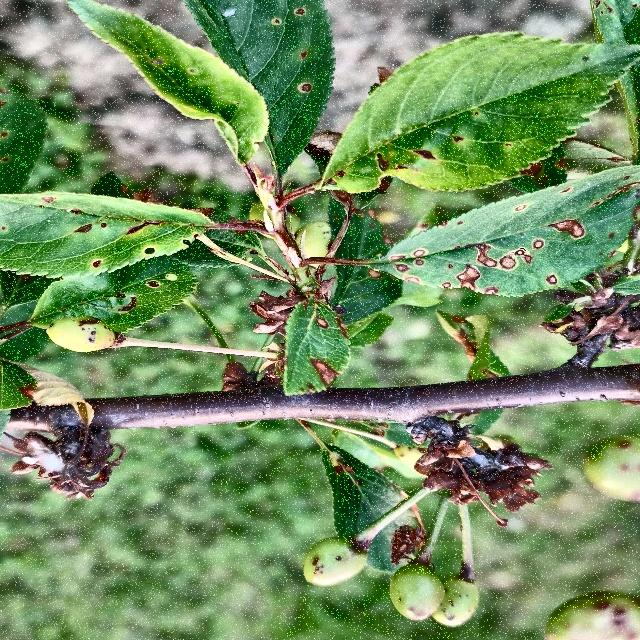leaf_spot: (0, 159, 279, 329), (354, 182, 633, 351)
